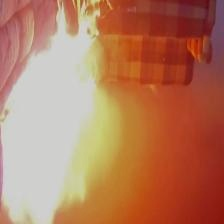fire: (0, 23, 115, 223)
